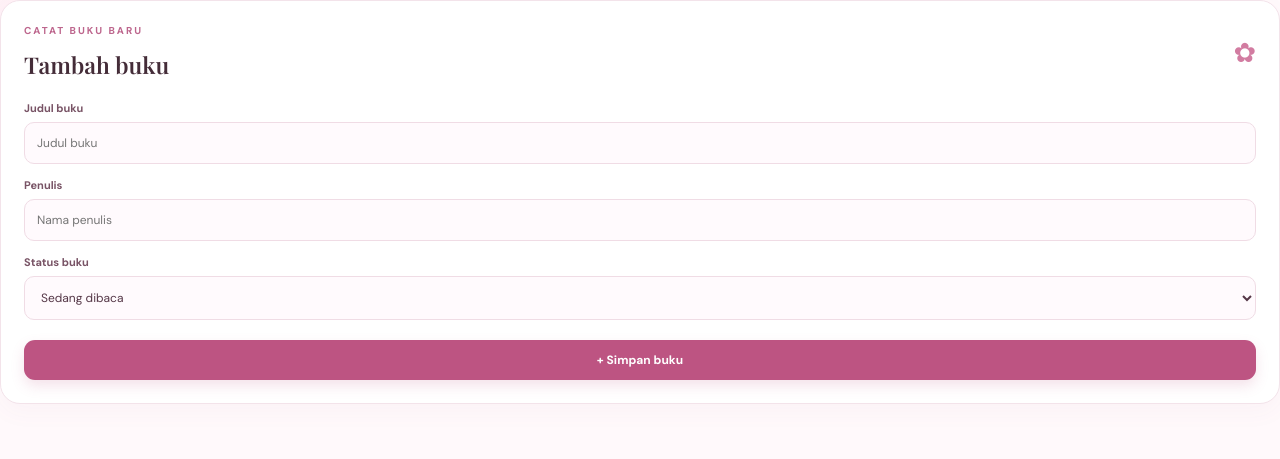
Test: BookForm › menampilkan error saat judul dan penulis kosong
Click the button "+ Simpan buku" at (640, 360), box top-left (24, 340), bottom-right (1256, 380)
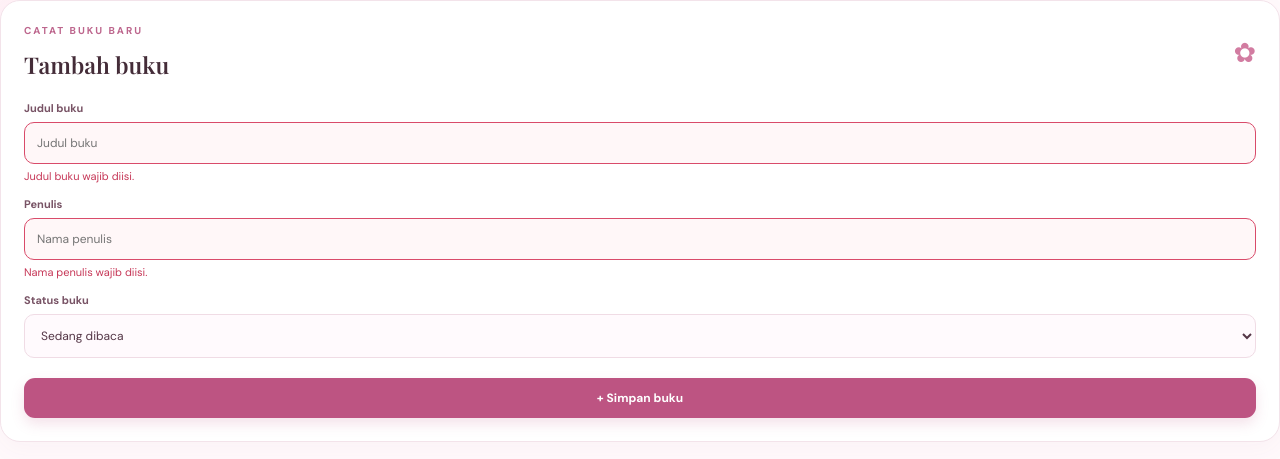
Expected: the text "Judul buku wajib diisi." is shown, top-left (24, 169), bottom-right (134, 183)
Expected: the text "Nama penulis wajib diisi." is shown, top-left (24, 265), bottom-right (147, 279)
